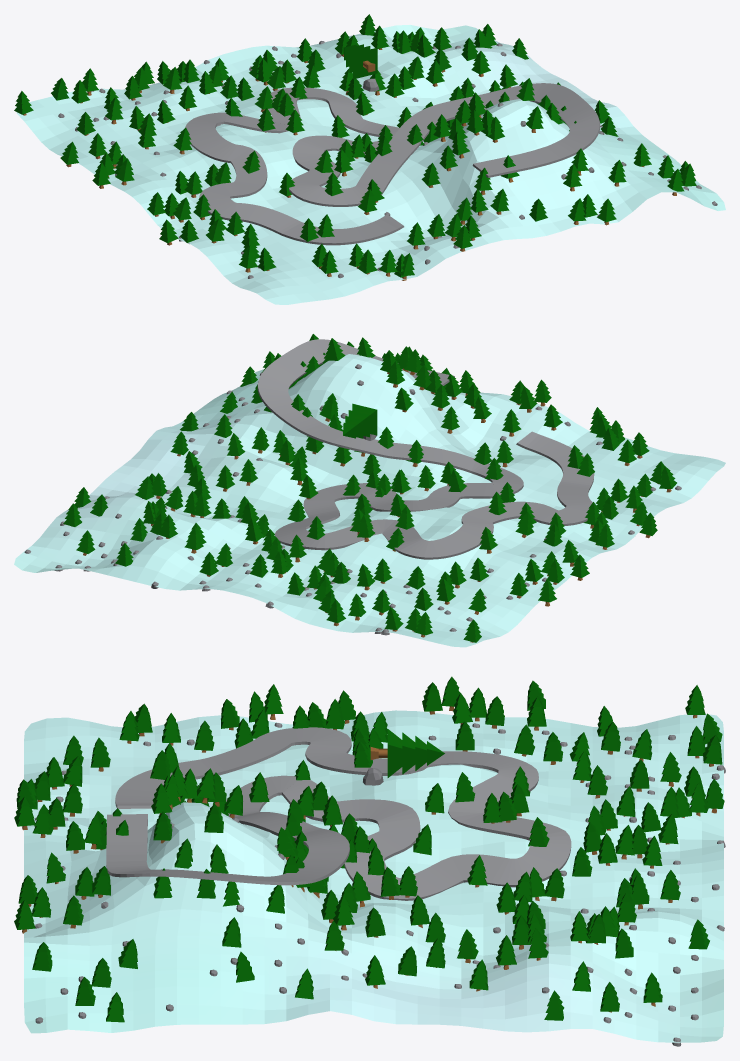
The model's file is Track2.fbx.
3 views of the same model, one above another, from view 1: azimuth 30°, elevation 25°; view 2: azimuth 150°, elevation 25°; view 3: azimuth 270°, elevation 25° (orthographic). The views are drawn at different scales.
Visible parts, largest first — view 1: Plane, Cube, PineTree; view 2: Plane, Cube, PineTree; view 3: Plane, Cube, PineTree.
Boxes of the visible parts, x1=… form: Plane: x1=15, y1=25, x2=725, y2=304; Cube: x1=185, y1=83, x2=600, y2=245; PineTree: x1=343, y1=44, x2=377, y2=79; Plane: x1=14, y1=354, x2=725, y2=647; Cube: x1=257, y1=339, x2=594, y2=559; PineTree: x1=343, y1=403, x2=377, y2=438; Plane: x1=24, y1=710, x2=723, y2=1042; Cube: x1=106, y1=727, x2=571, y2=900; PineTree: x1=370, y1=729, x2=444, y2=777.
Bounding box in the file's own units: 7100 × 1766 × 6966.
